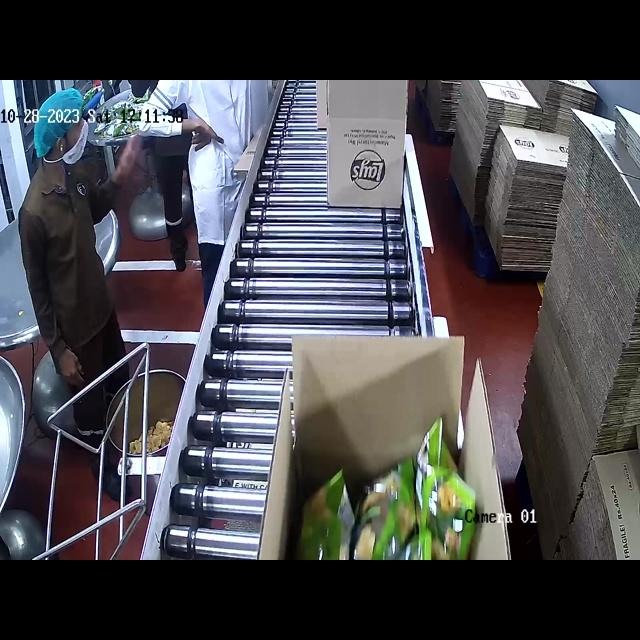yogurt: (315, 459, 495, 560)
